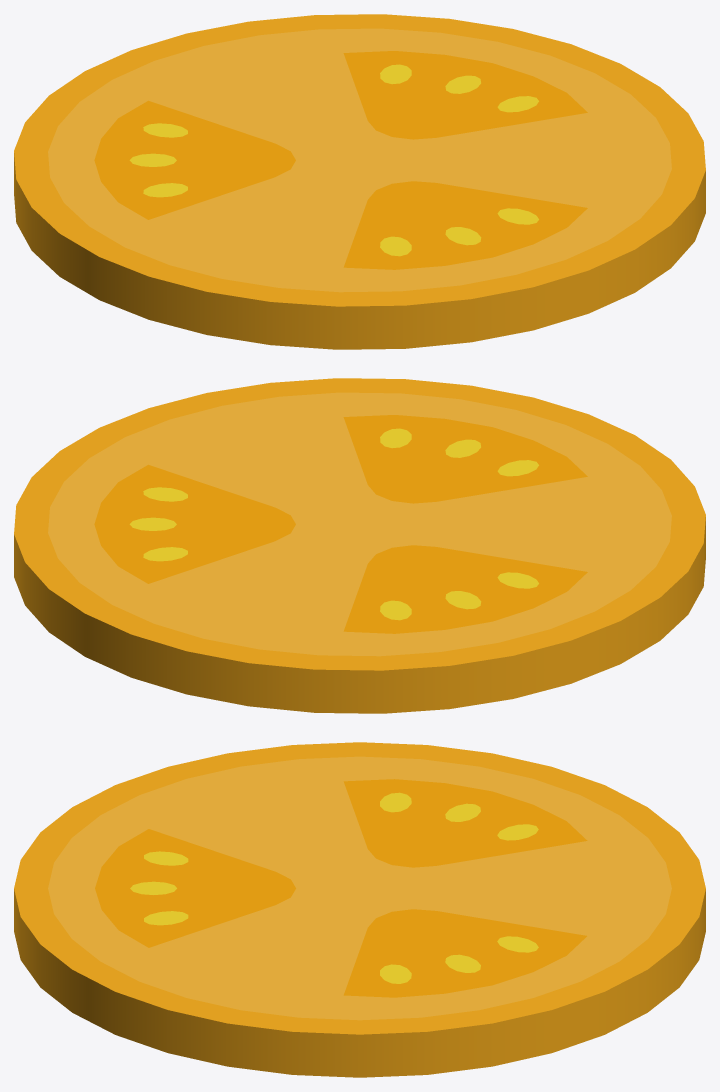
The model's file is Tomato Slice Yellow.fbx.
3 renders of one model, top to bottom at view 1: azimuth 30°, elevation 25°; view 2: azimuth 150°, elevation 25°; view 3: azimuth 270°, elevation 25°, orthographic.
Parts seen in each view (by area): view 1: Tomato Slice Yellow; view 2: Tomato Slice Yellow; view 3: Tomato Slice Yellow.
Boxes of the visible parts, x1=… form: Tomato Slice Yellow: x1=14, y1=14, x2=705, y2=349; Tomato Slice Yellow: x1=14, y1=378, x2=705, y2=713; Tomato Slice Yellow: x1=14, y1=742, x2=705, y2=1077.
Size of the model in its own units: 0.3924 by 0.027 by 0.3924.
